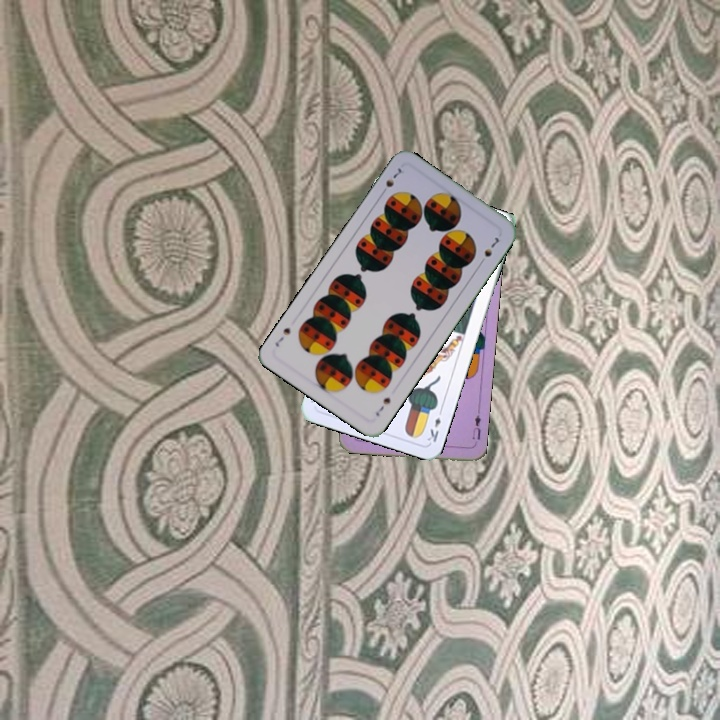EK: (423, 405, 445, 445)
EU: (468, 407, 483, 442)
S7: (377, 164, 407, 198), (371, 393, 393, 419)
